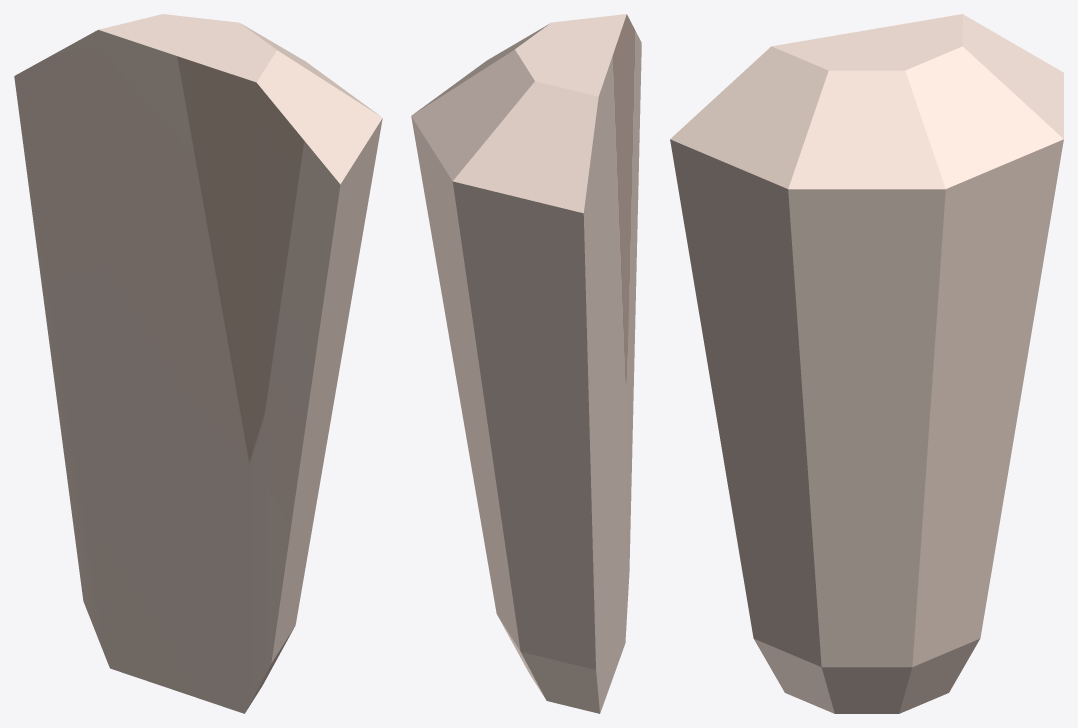
File: PROP_Vase_2.fbx
3 views of the same model, side by side, from view 1: azimuth 30°, elevation 25°; view 2: azimuth 150°, elevation 25°; view 3: azimuth 270°, elevation 25° (orthographic). The views are drawn at different scales.
Parts seen in each view (by area): view 1: Vase_2; view 2: Vase_2; view 3: Vase_2.
Part boxes in pixels (x1,y1,x2,y2): Vase_2: (14,14,382,713); Vase_2: (411,14,641,713); Vase_2: (670,14,1063,713).
Bounding box in the file's own units: 10.62 × 27.57 × 15.17.
